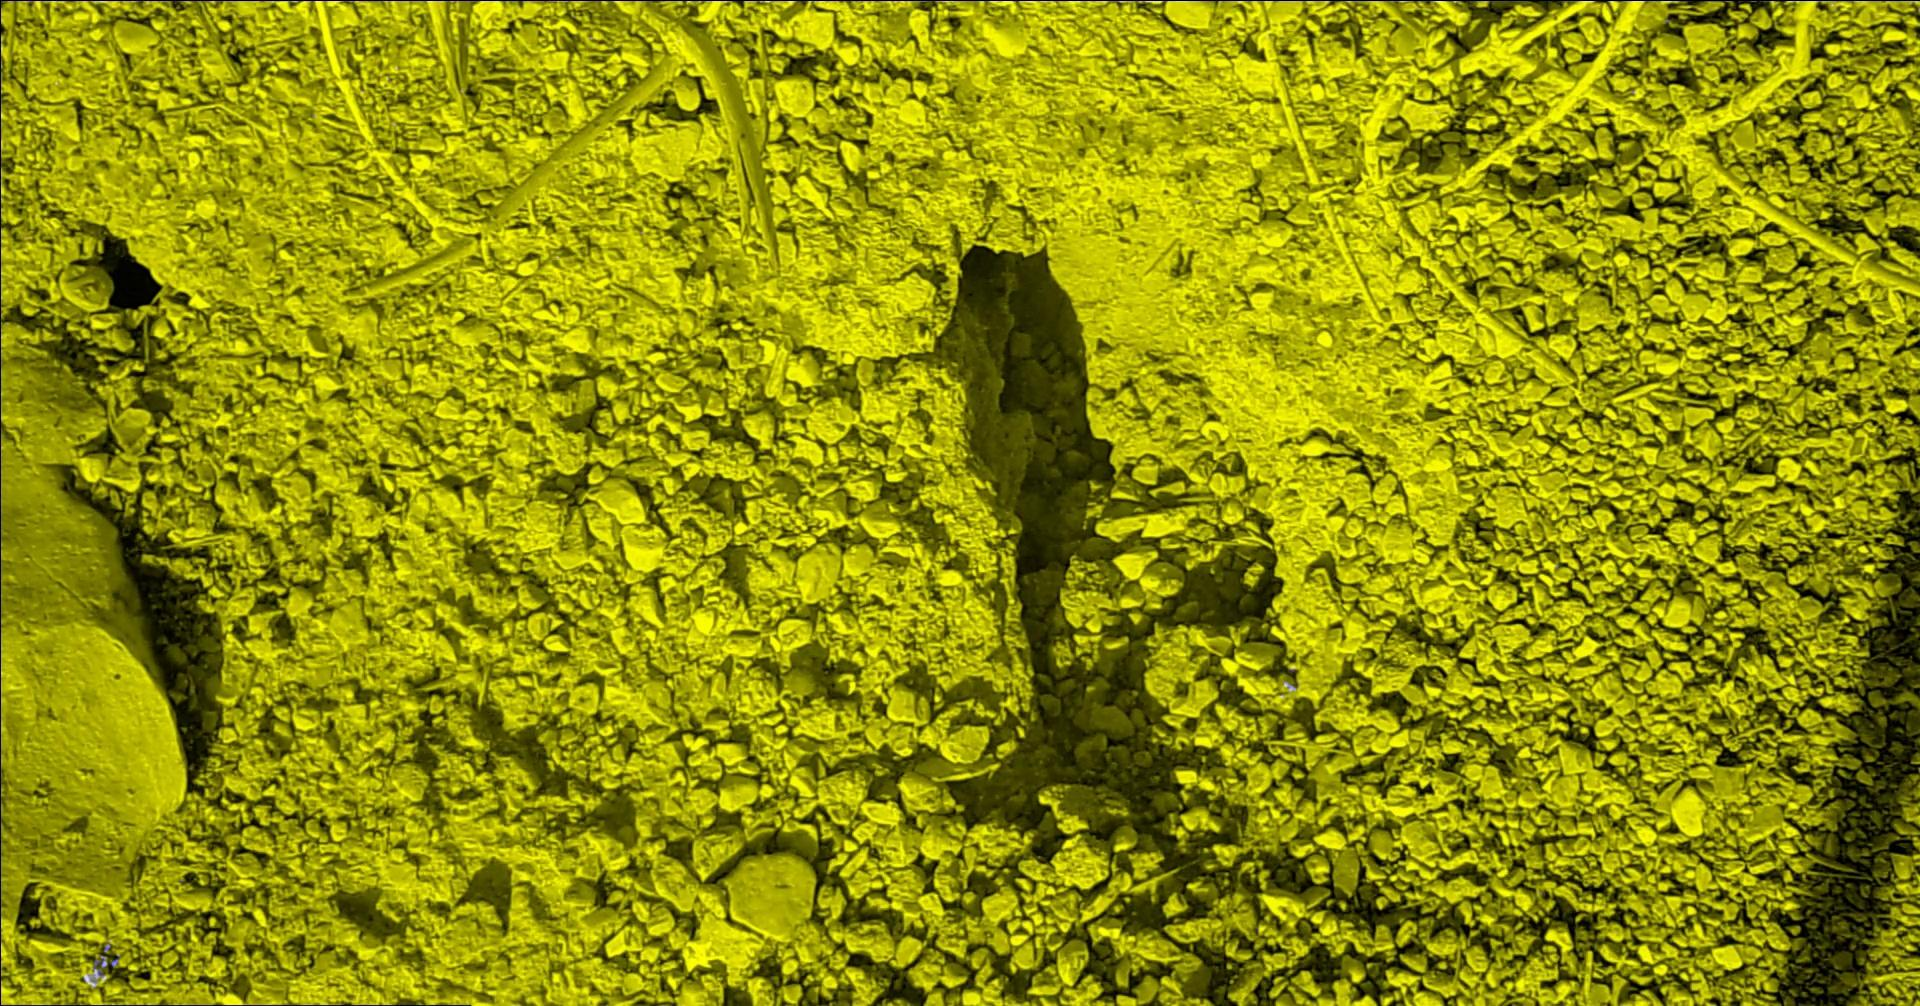ant: (93, 944, 119, 976)
